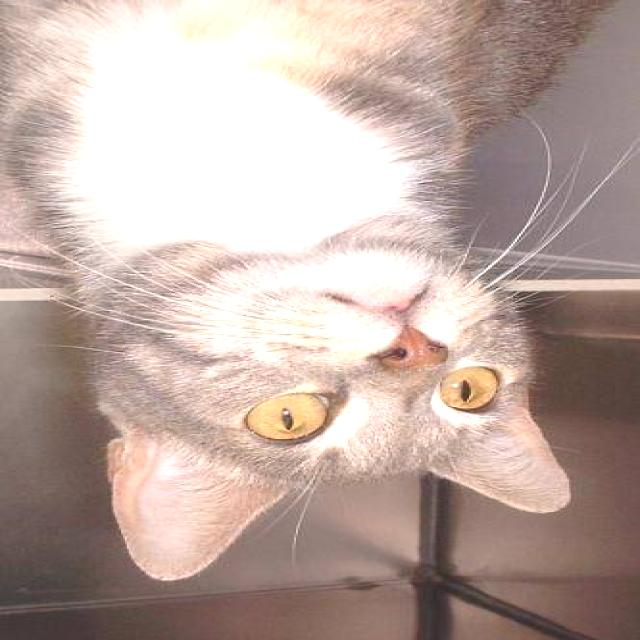Kucing: (65, 64, 593, 604)
